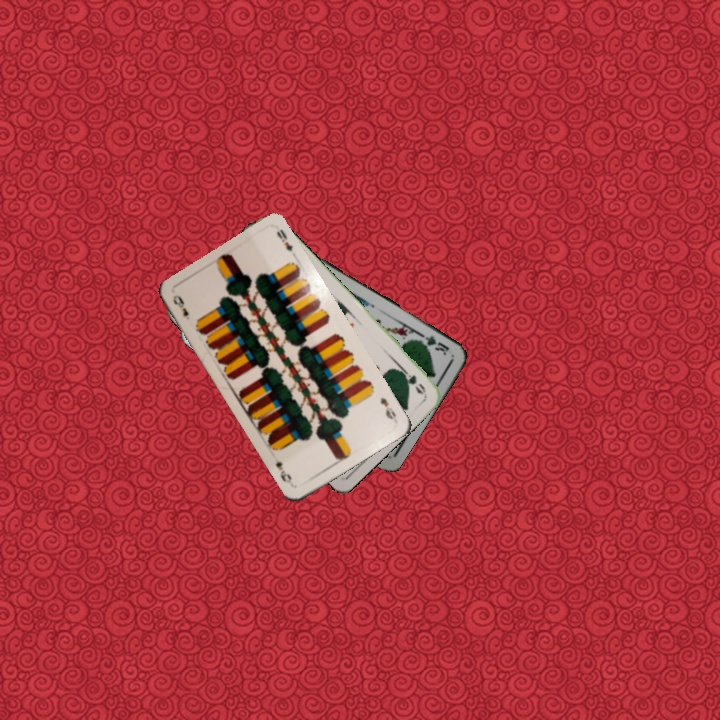E9: (168, 291, 192, 322), (376, 393, 399, 423)
GK: (414, 330, 452, 358)
GO: (394, 363, 429, 397)
